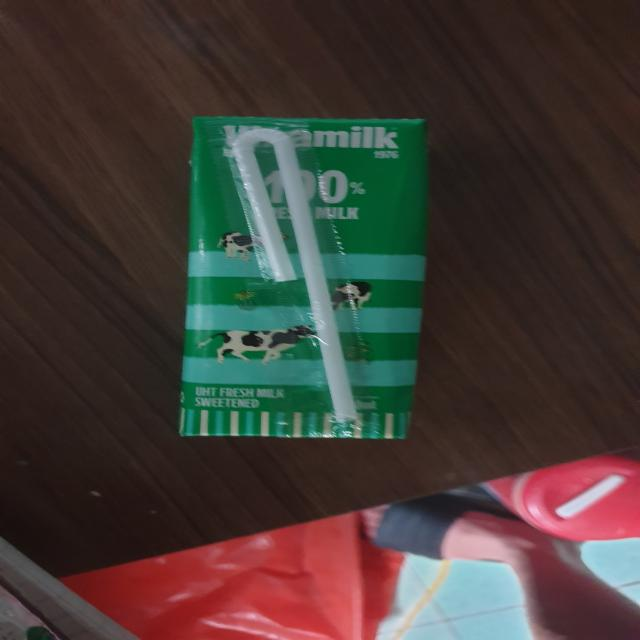Vina: (175, 112, 441, 443)
